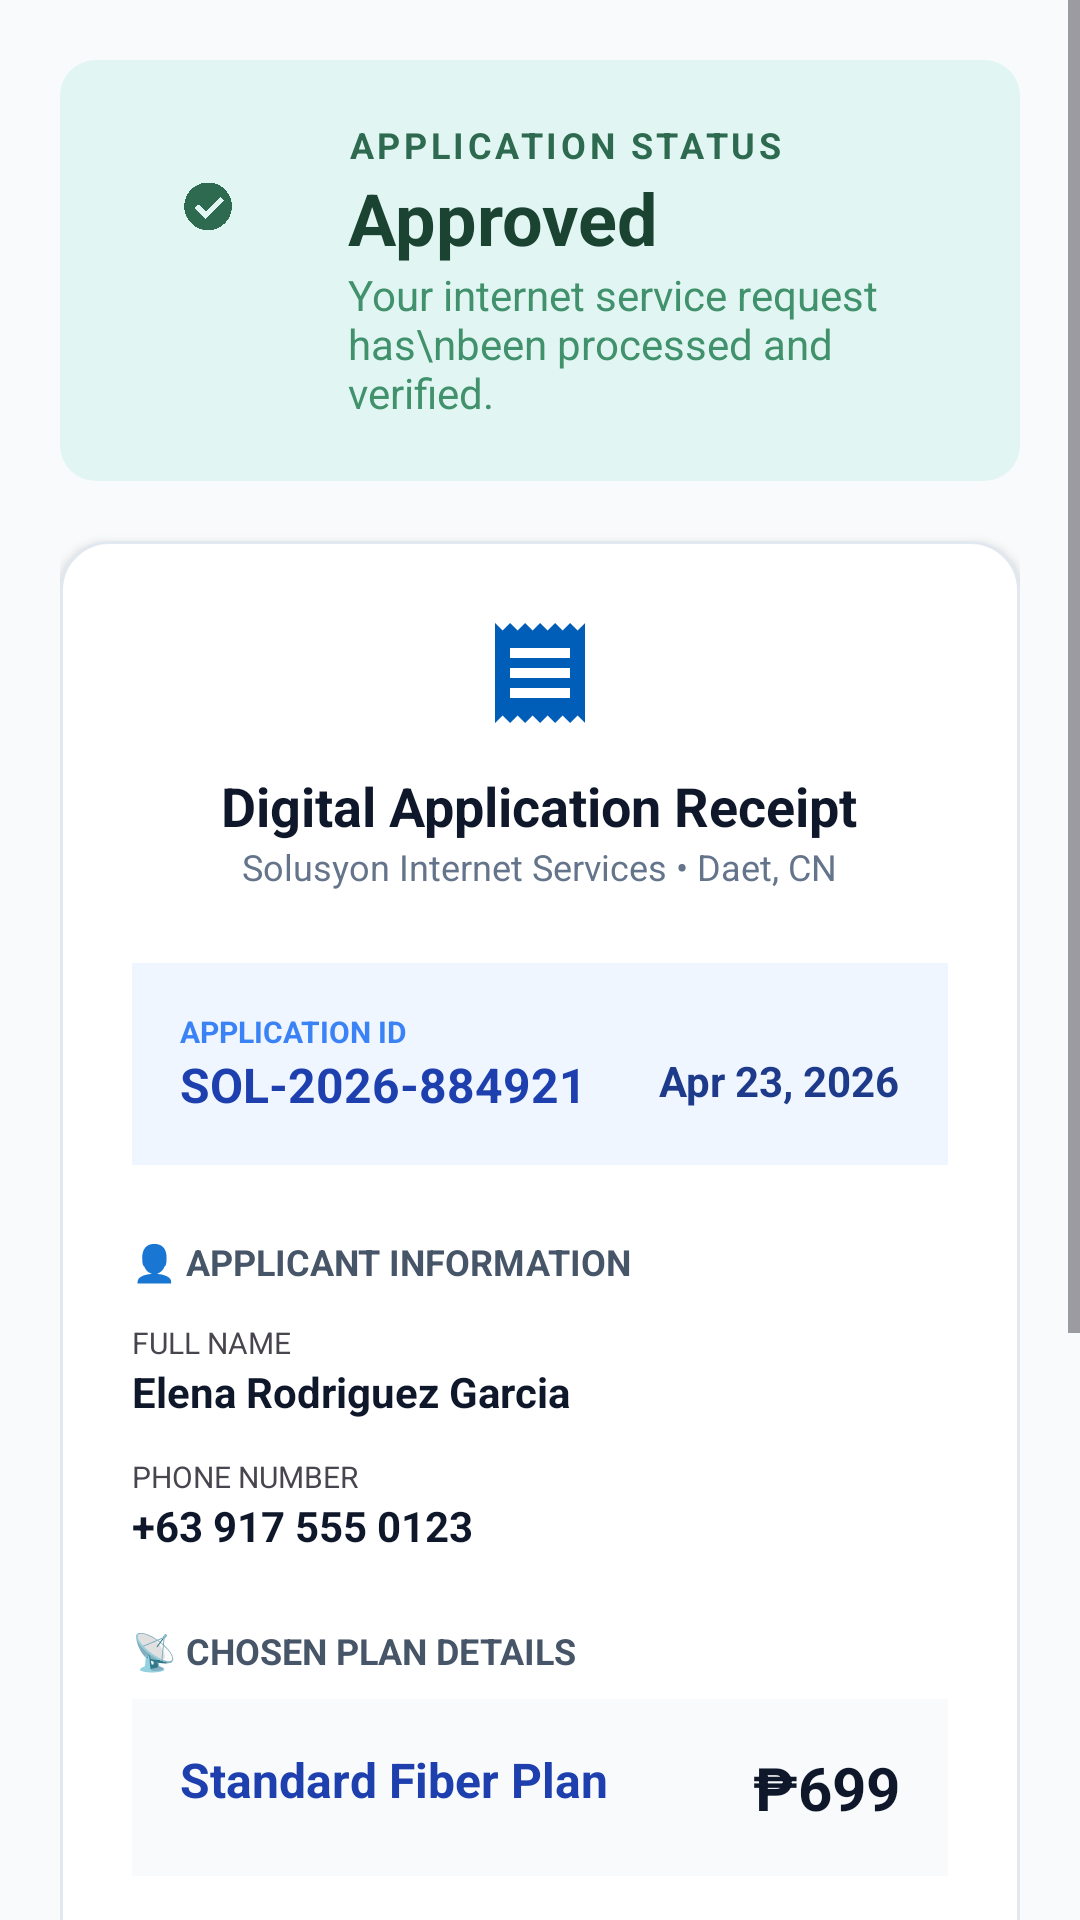

Named icons in this screenshot (1080px x 1920px) and their centers, (x,y):
check circle: (208,206)
